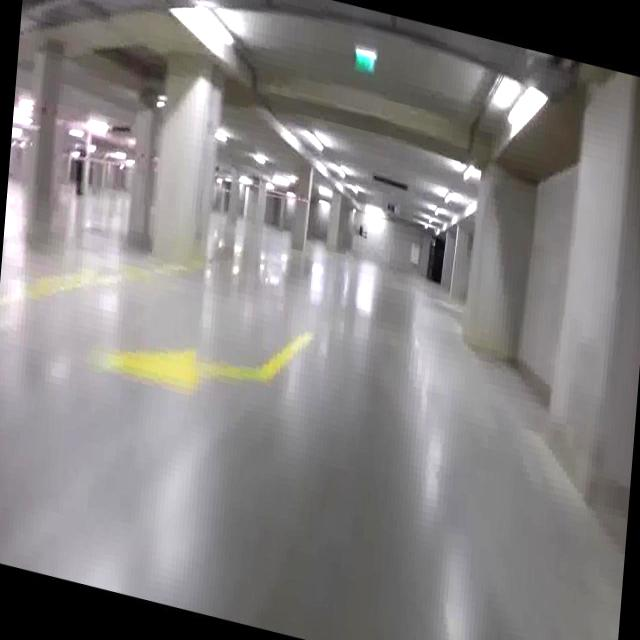drone: (352, 212, 369, 251)
